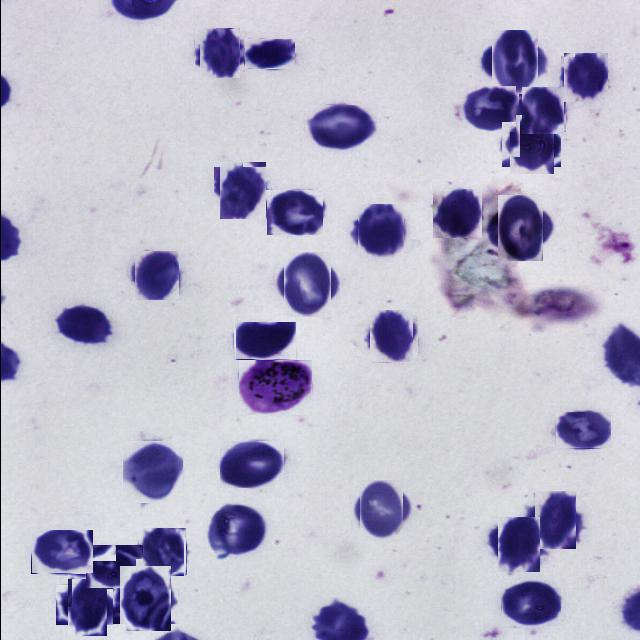difficult: (238, 360, 311, 415)
red blood cell: (121, 440, 183, 502), (202, 502, 268, 558), (115, 569, 173, 627), (304, 105, 376, 150), (278, 255, 334, 312), (491, 200, 547, 256), (487, 34, 542, 90), (219, 441, 283, 488), (215, 164, 268, 217), (501, 580, 560, 626), (354, 484, 406, 536), (504, 118, 556, 170), (354, 206, 406, 258), (31, 530, 92, 574), (265, 190, 322, 236), (459, 86, 515, 132), (84, 545, 142, 589), (60, 580, 111, 630), (529, 495, 579, 545), (432, 189, 482, 238), (493, 520, 542, 570), (233, 322, 296, 360), (366, 312, 414, 361), (138, 528, 186, 576), (55, 304, 111, 344), (132, 252, 179, 299), (562, 54, 608, 102), (196, 30, 242, 76), (554, 412, 610, 449), (519, 88, 564, 133), (243, 39, 294, 69)
